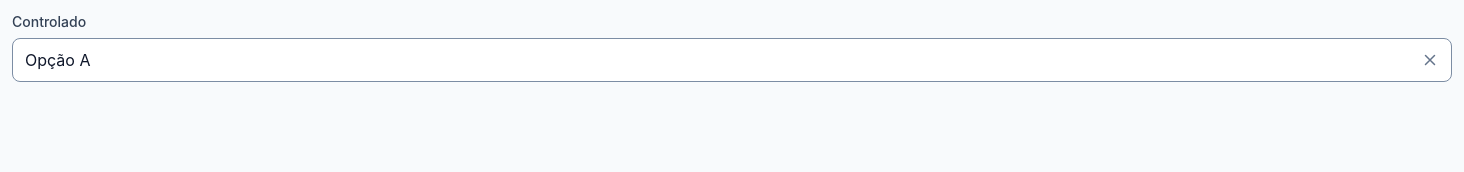
Test: limpa select controlado, notifica o formulário e devolve o foco ao campo
Later steps or results of the test are not shown.
Step 1. Click the button named "Limpar seleção de Controlado" → (1430, 60), box [1408,38,1452,82]
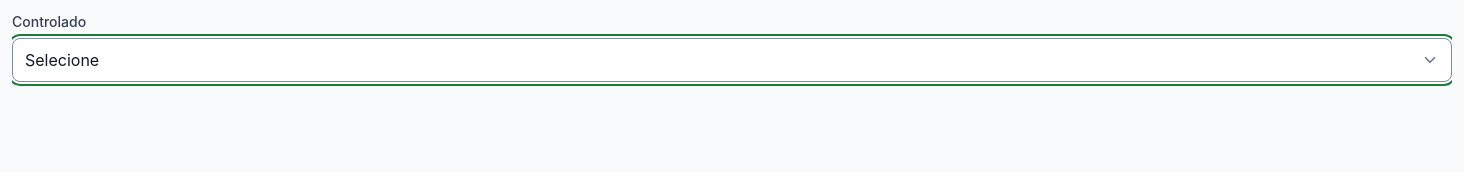
Expected: the dropdown labelled "Controlado" shows "Selecione", [12,38,1452,82]
